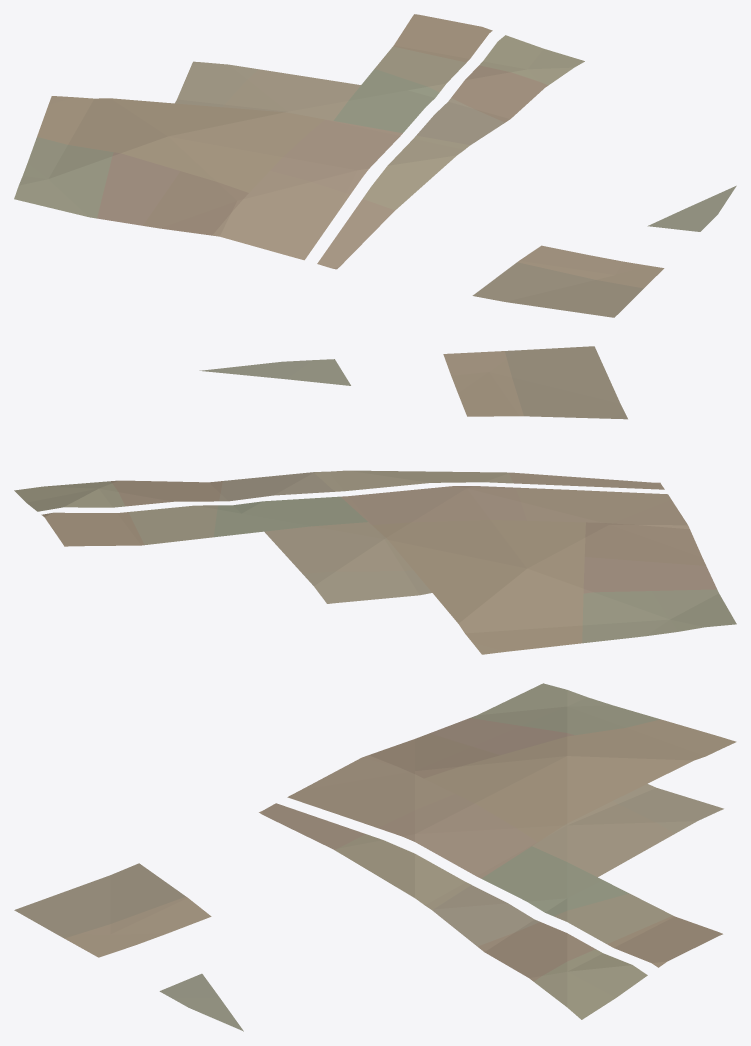
Rendered from farm_18_9_soil.glb.
3 renders of one model, top to bottom at view 1: azimuth 30°, elevation 25°; view 2: azimuth 150°, elevation 25°; view 3: azimuth 270°, elevation 25°, orthographic. The views are drawn at different scales.
Visible parts, largest first — view 1: geometry_0; view 2: geometry_0; view 3: geometry_0.
Part boxes in pixels (box(x1,y1,x2,y2)): geometry_0: box(14, 14, 736, 317); geometry_0: box(14, 346, 736, 654); geometry_0: box(14, 683, 736, 1031).
Size of the model in its own units: 393 by 28.9 by 380.
